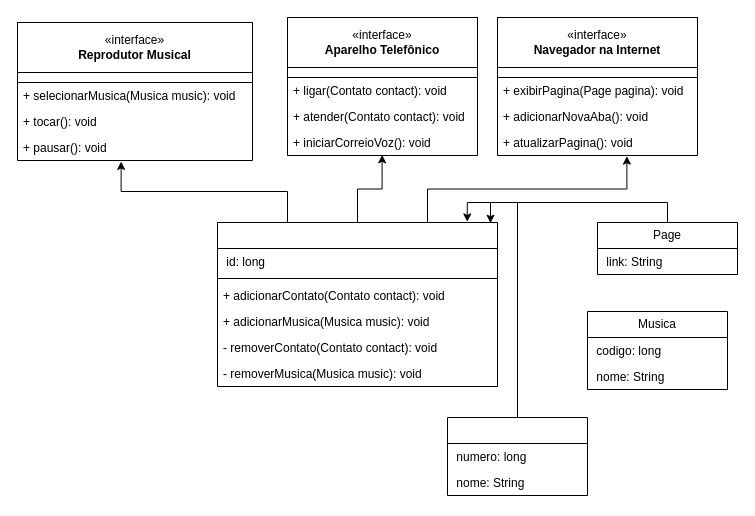
Some shapes in this 755 by 516 pixel diagram are drawn without their labels. Each missing label, with the box of its shape:
Contato: (446, 416, 588, 496)
iPhone: (216, 222, 498, 386)
